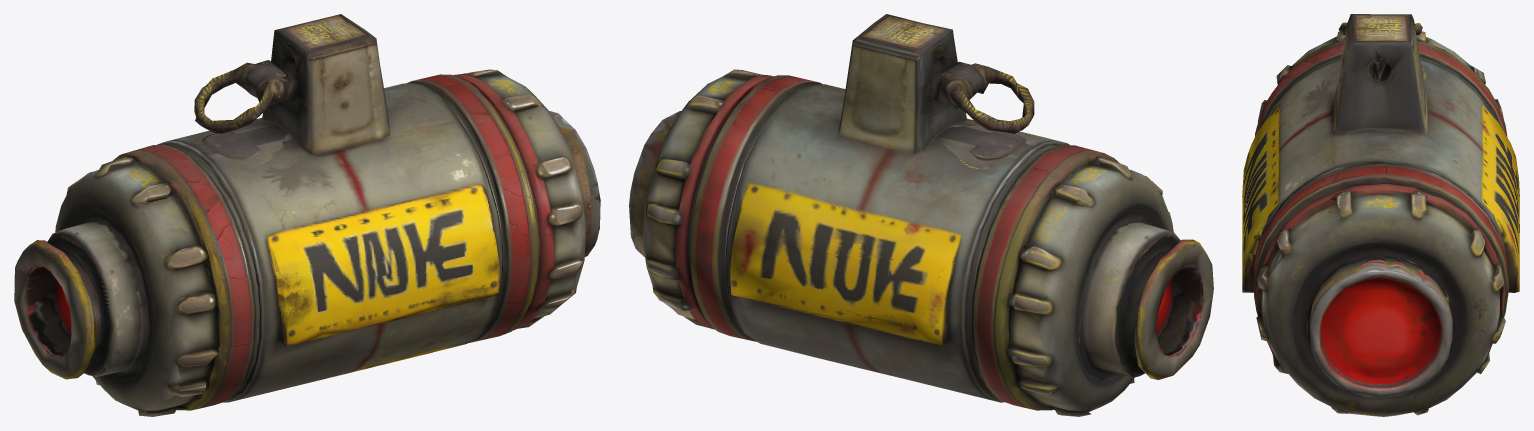
The model's file is instantKill.glb.
The picture shows the model from 3 angles, left to right: view 1: azimuth 30°, elevation 25°; view 2: azimuth 150°, elevation 25°; view 3: azimuth 270°, elevation 25°; orthographic projection. The views are drawn at different scales.
Bounding box in the file's own units: 2 × 1.23 × 0.9986.
1 material, 1 textured.
